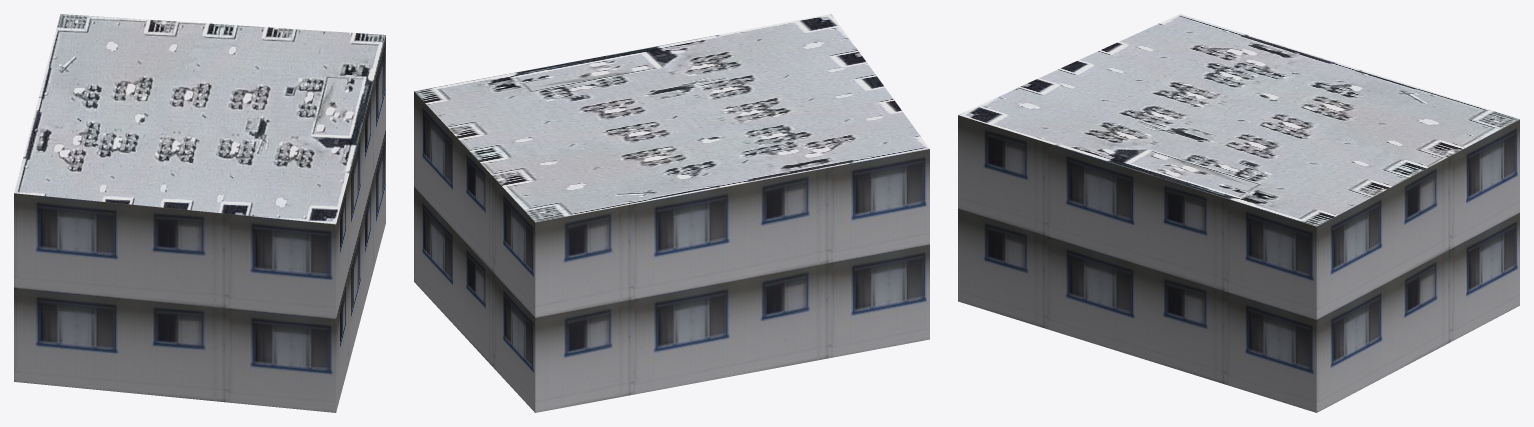
The model's file is ResTex__3331.fbx.
3 views of the same model, side by side, from view 1: azimuth 30°, elevation 25°; view 2: azimuth 150°, elevation 25°; view 3: azimuth 270°, elevation 25° (orthographic). The views are drawn at different scales.
Visible parts, largest first — view 1: CityEngineMaterial_9_m, CityEngineMaterial_m; view 2: CityEngineMaterial_9_m, CityEngineMaterial_m; view 3: CityEngineMaterial_9_m, CityEngineMaterial_m.
Part boxes in pixels (x1,y1,x2,y2): CityEngineMaterial_9_m: (14, 35, 385, 412); CityEngineMaterial_m: (14, 14, 385, 224); CityEngineMaterial_9_m: (414, 91, 929, 412); CityEngineMaterial_m: (414, 14, 929, 222); CityEngineMaterial_9_m: (958, 115, 1519, 412); CityEngineMaterial_m: (958, 14, 1519, 226).
Bounding box in the file's own units: 14.68 × 6 × 16.4.
Materials: 2 (2 with a texture image).
